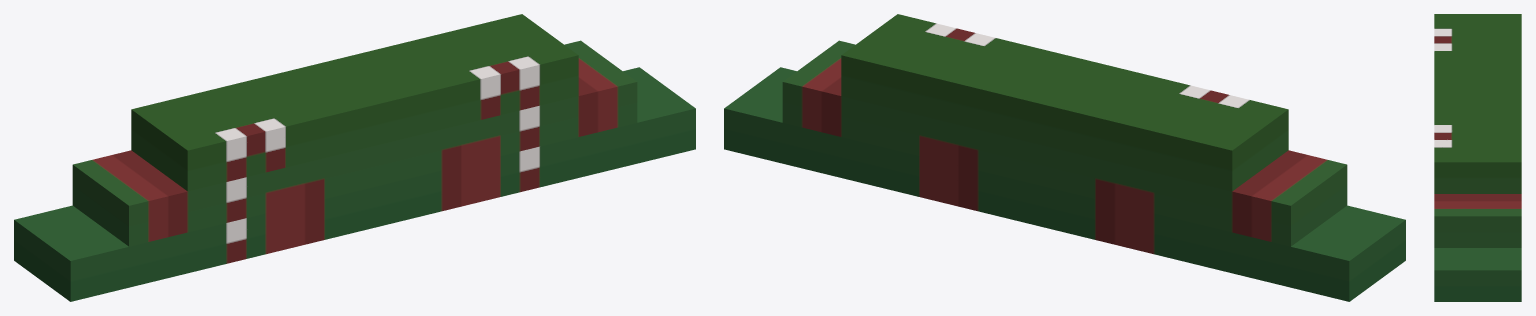
The model's file is Chest070.fbx.
3 renders of one model, left to right at view 1: azimuth 30°, elevation 25°; view 2: azimuth 150°, elevation 25°; view 3: azimuth 270°, elevation 25°, orthographic. The views are drawn at different scales.
Parts seen in each view (by area): view 1: Chest070; view 2: Chest070; view 3: Chest070.
Boxes of the visible parts, left/top/right/bottom form: Chest070: left=14, top=14, right=695, bottom=301; Chest070: left=724, top=14, right=1405, bottom=301; Chest070: left=1434, top=14, right=1521, bottom=301.
Bounding box in the file's own units: 32 × 6 × 5.
